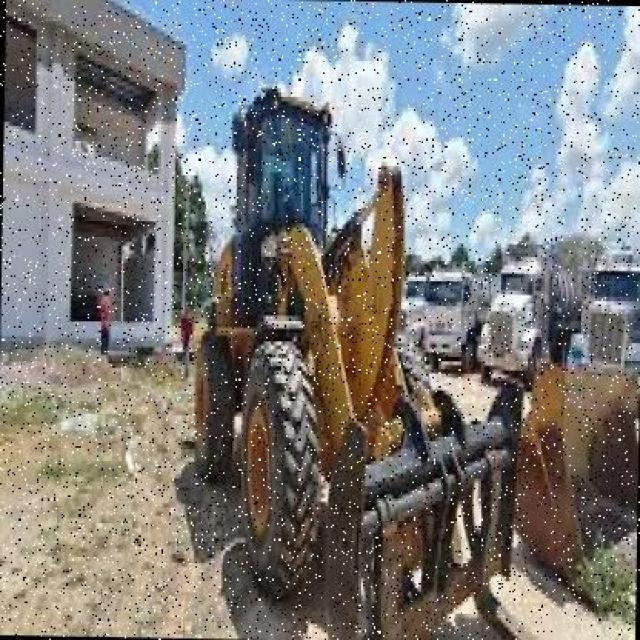buldozerpayloadergrader: (187, 82, 522, 640)
